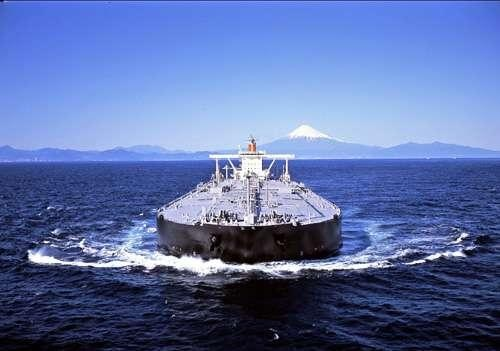Cargoship: (150, 131, 347, 265)
